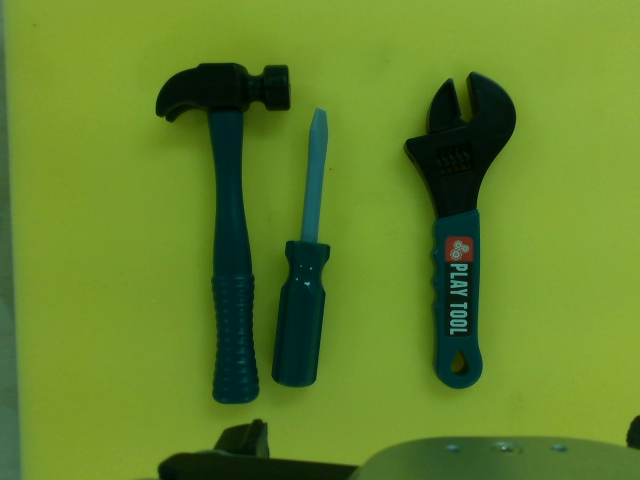Adjustable Wrench: (157, 58, 291, 409)
Back Saw: (403, 71, 516, 392)
Bolt: (272, 108, 331, 391)
